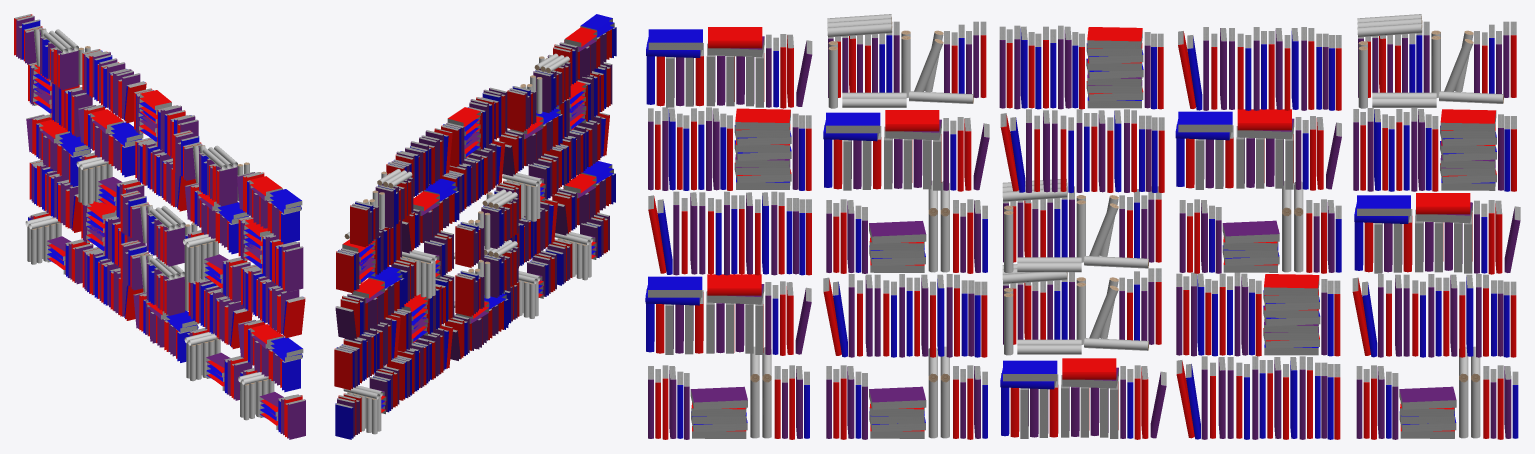
Rendered from BookCaseFillTest1.FBX.
3 views of the same model, side by side, from view 1: azimuth 30°, elevation 25°; view 2: azimuth 150°, elevation 25°; view 3: azimuth 270°, elevation 25° (orthographic). The views are drawn at different scales.
Visible parts, largest first — view 1: BookCaseFill_LOD0; view 2: BookCaseFill_LOD0; view 3: BookCaseFill_LOD0.
Boxes of the visible parts, bbox=[...] form: BookCaseFill_LOD0: bbox=[14, 14, 305, 439]; BookCaseFill_LOD0: bbox=[334, 14, 616, 439]; BookCaseFill_LOD0: bbox=[645, 14, 1520, 439].
Size of what is drawn, in the model's own units: 26.61 by 173 by 342.
